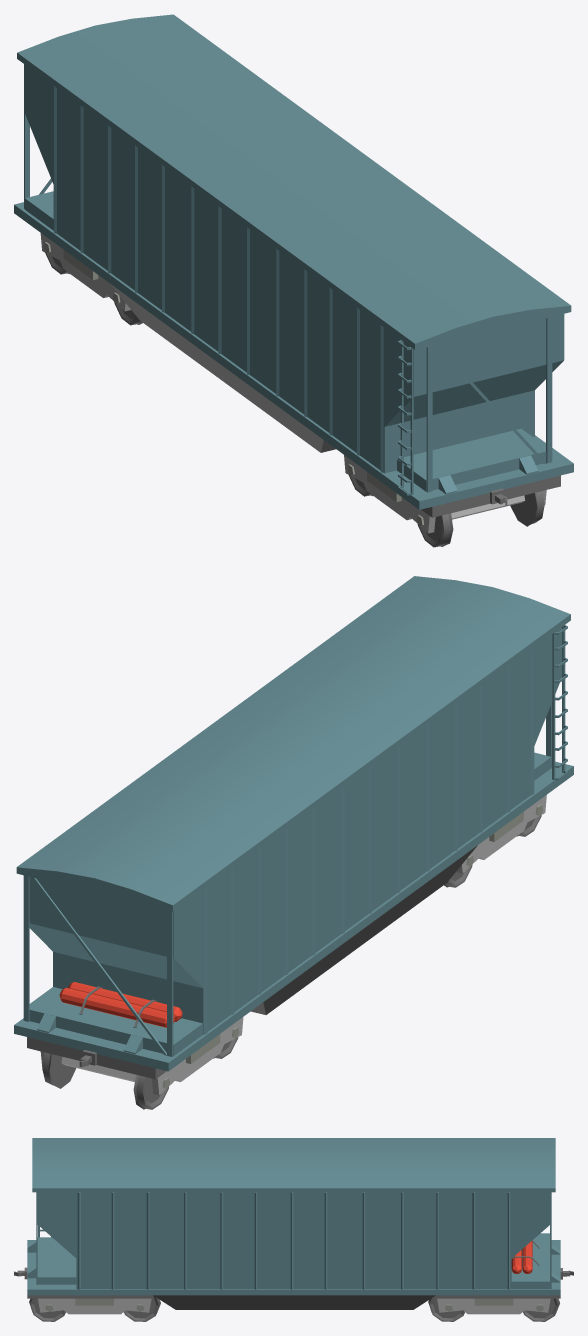
File: SM_RailwayCarriage_01.fbx
The picture shows the model from 3 angles, top to bottom: view 1: azimuth 30°, elevation 25°; view 2: azimuth 150°, elevation 25°; view 3: azimuth 270°, elevation 25°; orthographic projection. The views are drawn at different scales.
Parts seen in each view (by area): view 1: SM_RailwayCarriage_01; view 2: SM_RailwayCarriage_01; view 3: SM_RailwayCarriage_01.
Part boxes in pixels (left/top/right/bottom): SM_RailwayCarriage_01: left=14, top=14, right=573, bottom=547; SM_RailwayCarriage_01: left=14, top=576, right=573, bottom=1109; SM_RailwayCarriage_01: left=14, top=1138, right=573, bottom=1321.
Size of the model in its own units: 272 by 370 by 1260.
